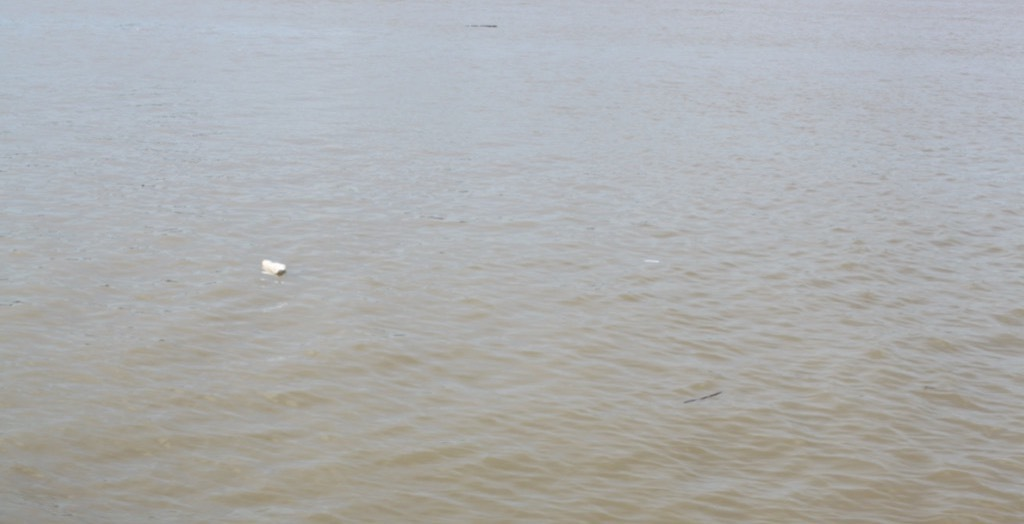organic: (673, 383, 735, 413), (454, 16, 504, 33)
plastic: (238, 249, 312, 302), (628, 245, 670, 278)
